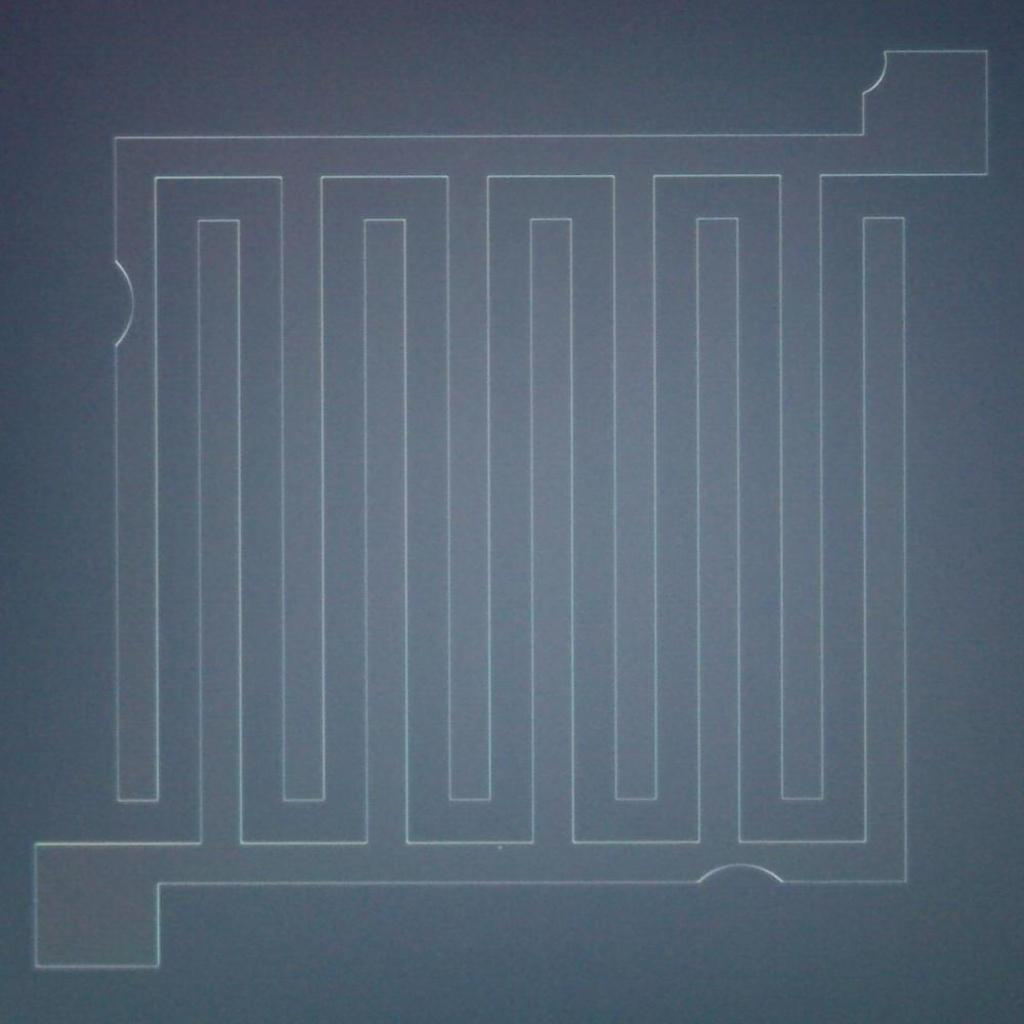curve circuit: (96, 244, 142, 357), (680, 854, 796, 898), (846, 40, 904, 110)
